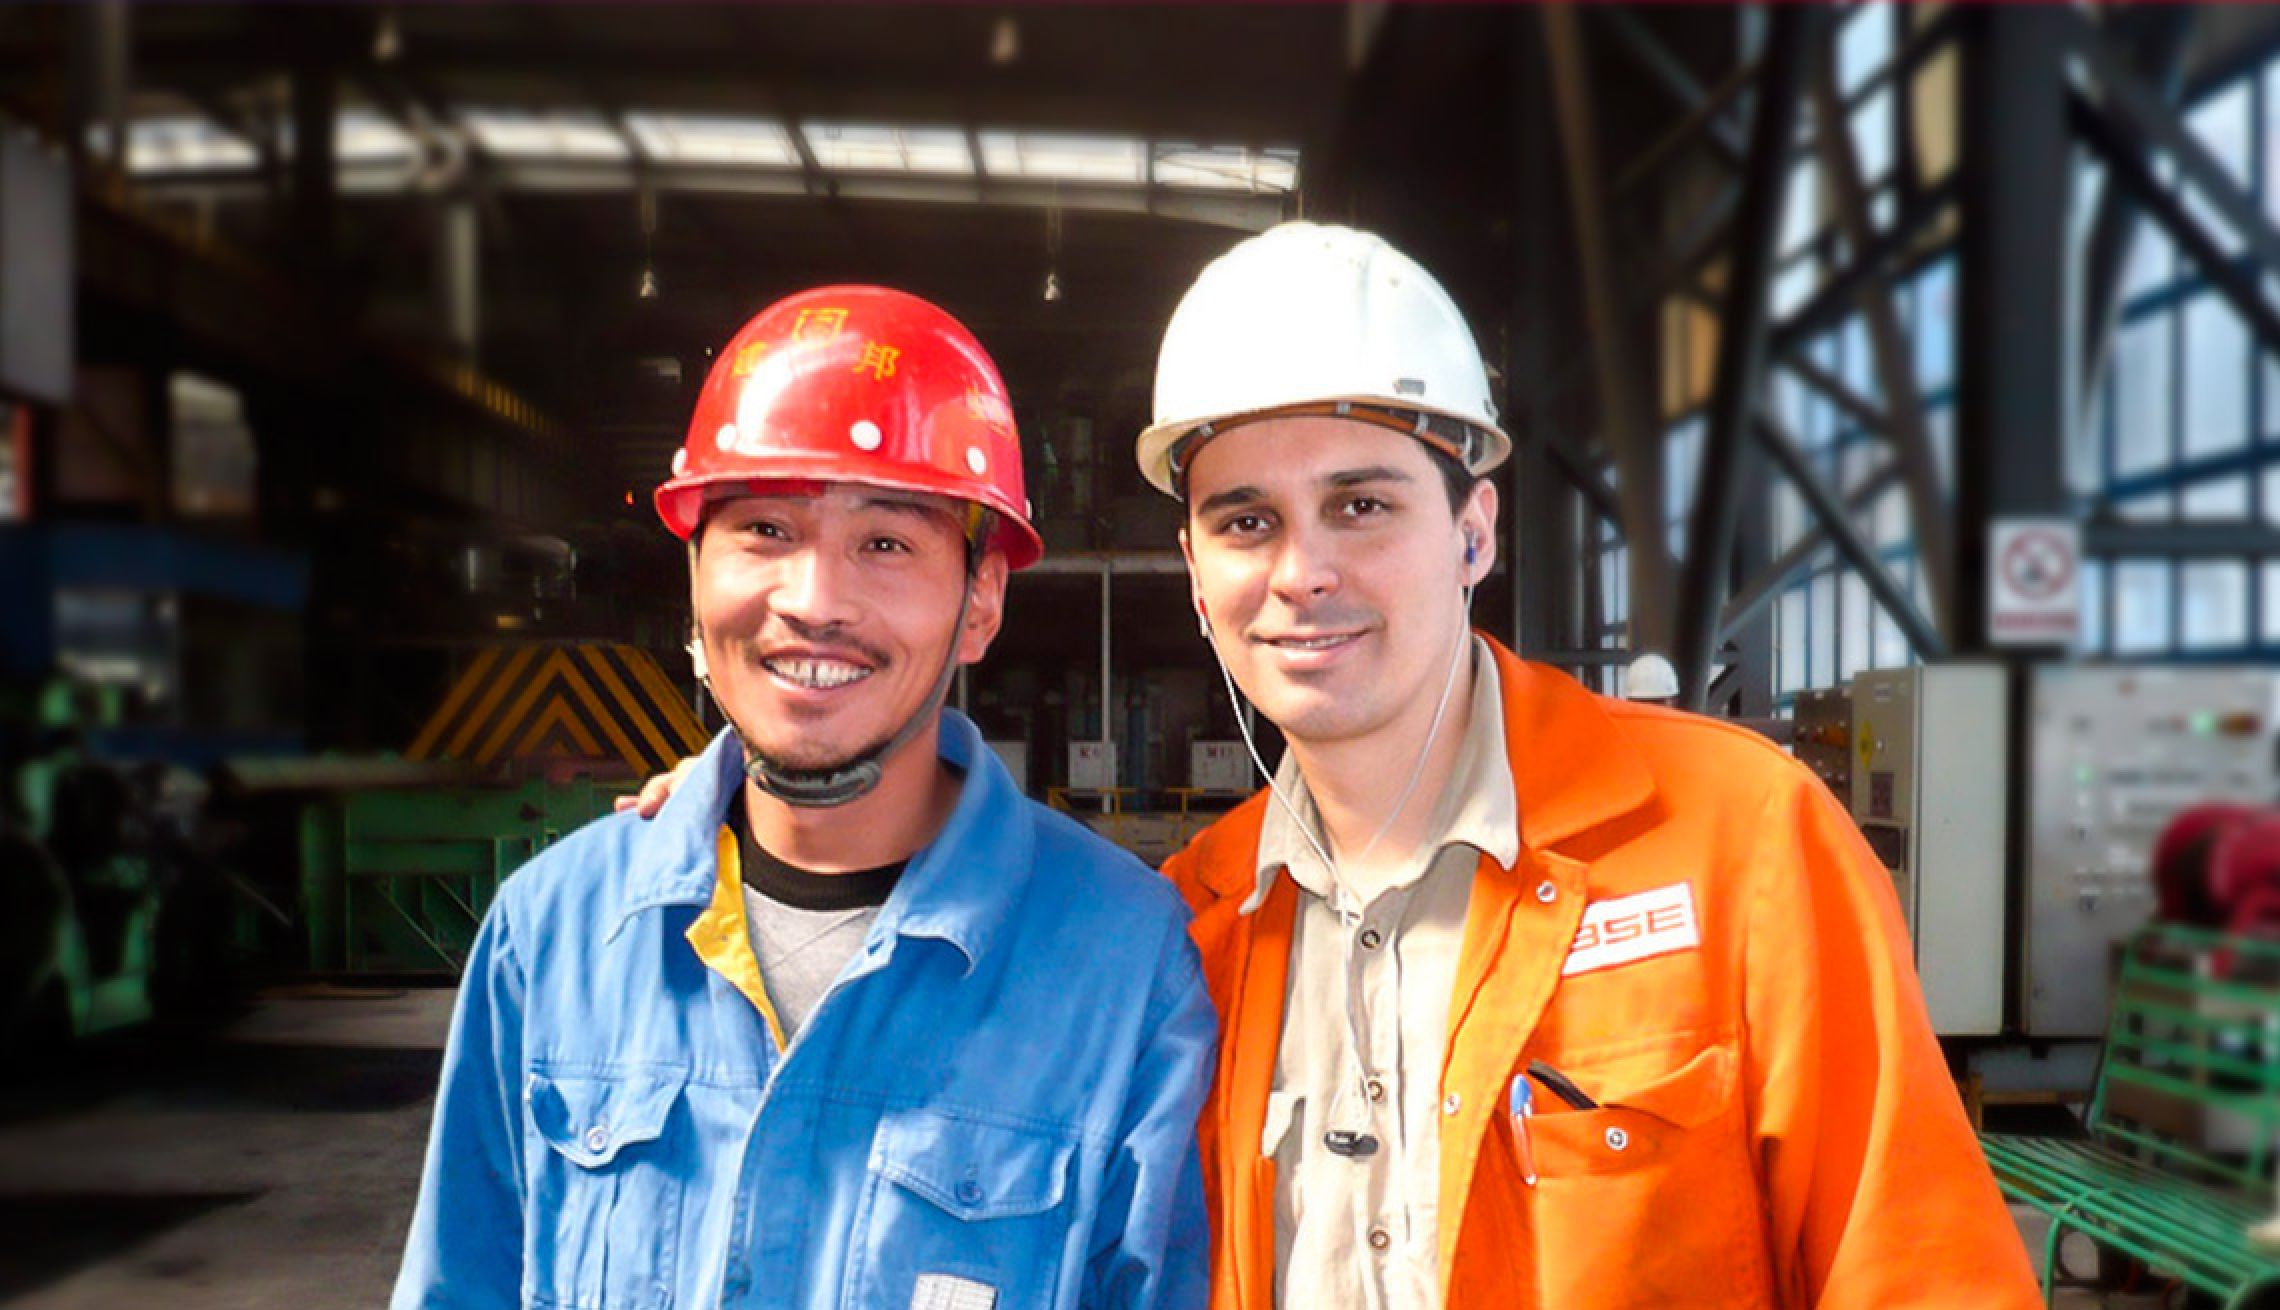safetyhat: (1110, 182, 1972, 1310), (424, 252, 1070, 1310)
